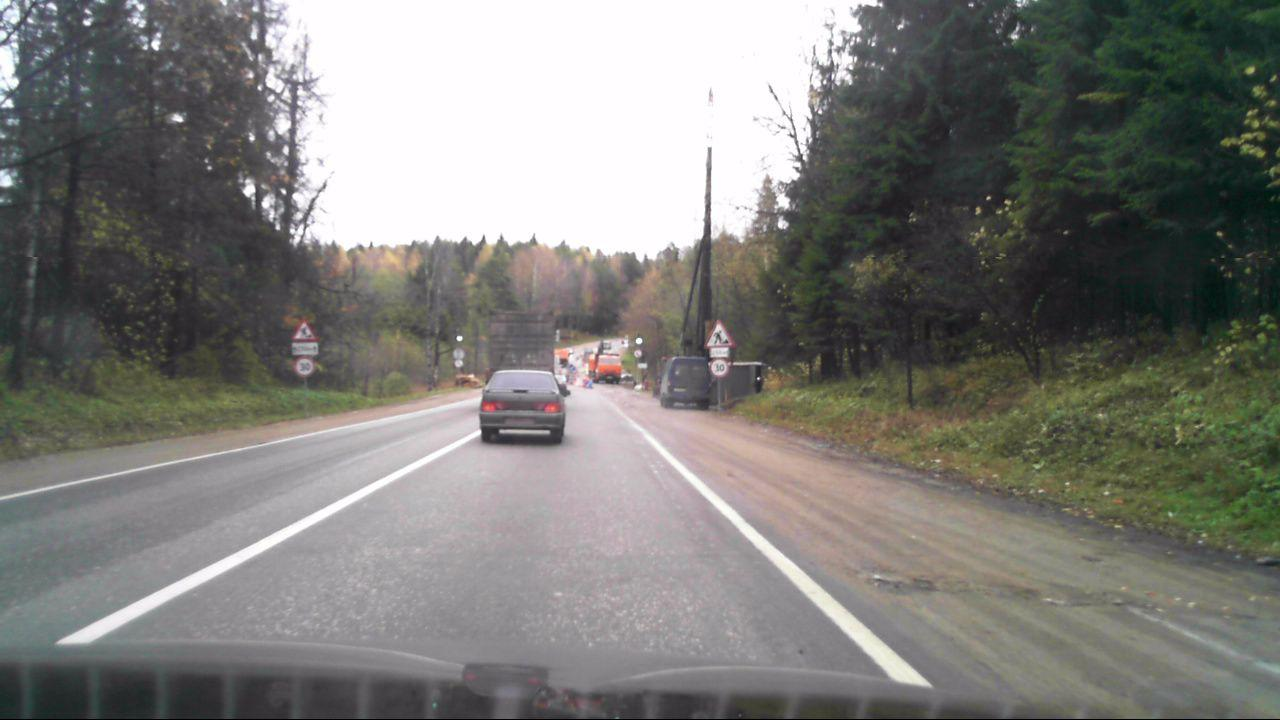1_25: (703, 319, 734, 346), (291, 317, 320, 340)
3_24: (296, 357, 315, 377), (710, 359, 729, 378)
8_2_1: (290, 343, 319, 354), (710, 346, 731, 359)
